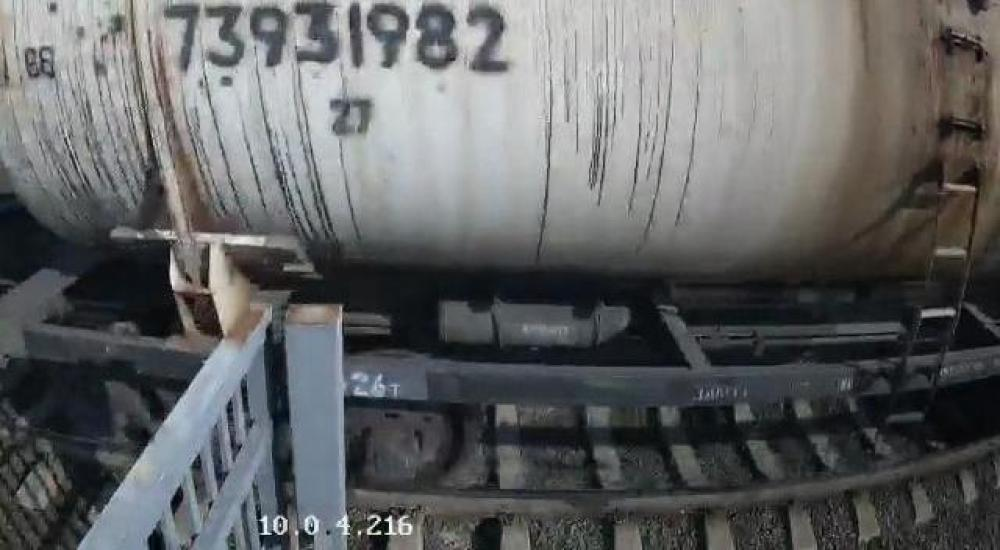Wagon-number: (161, 1, 517, 78)
